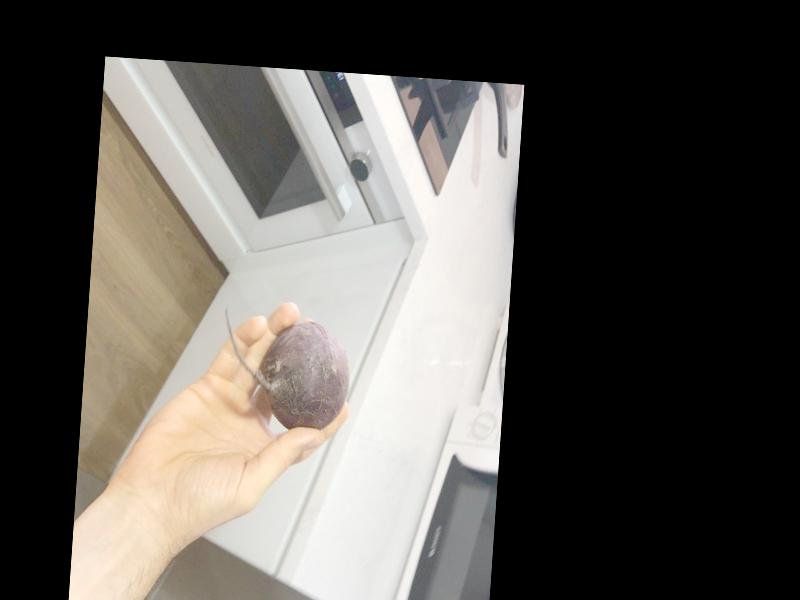Beet: (216, 305, 353, 432)
